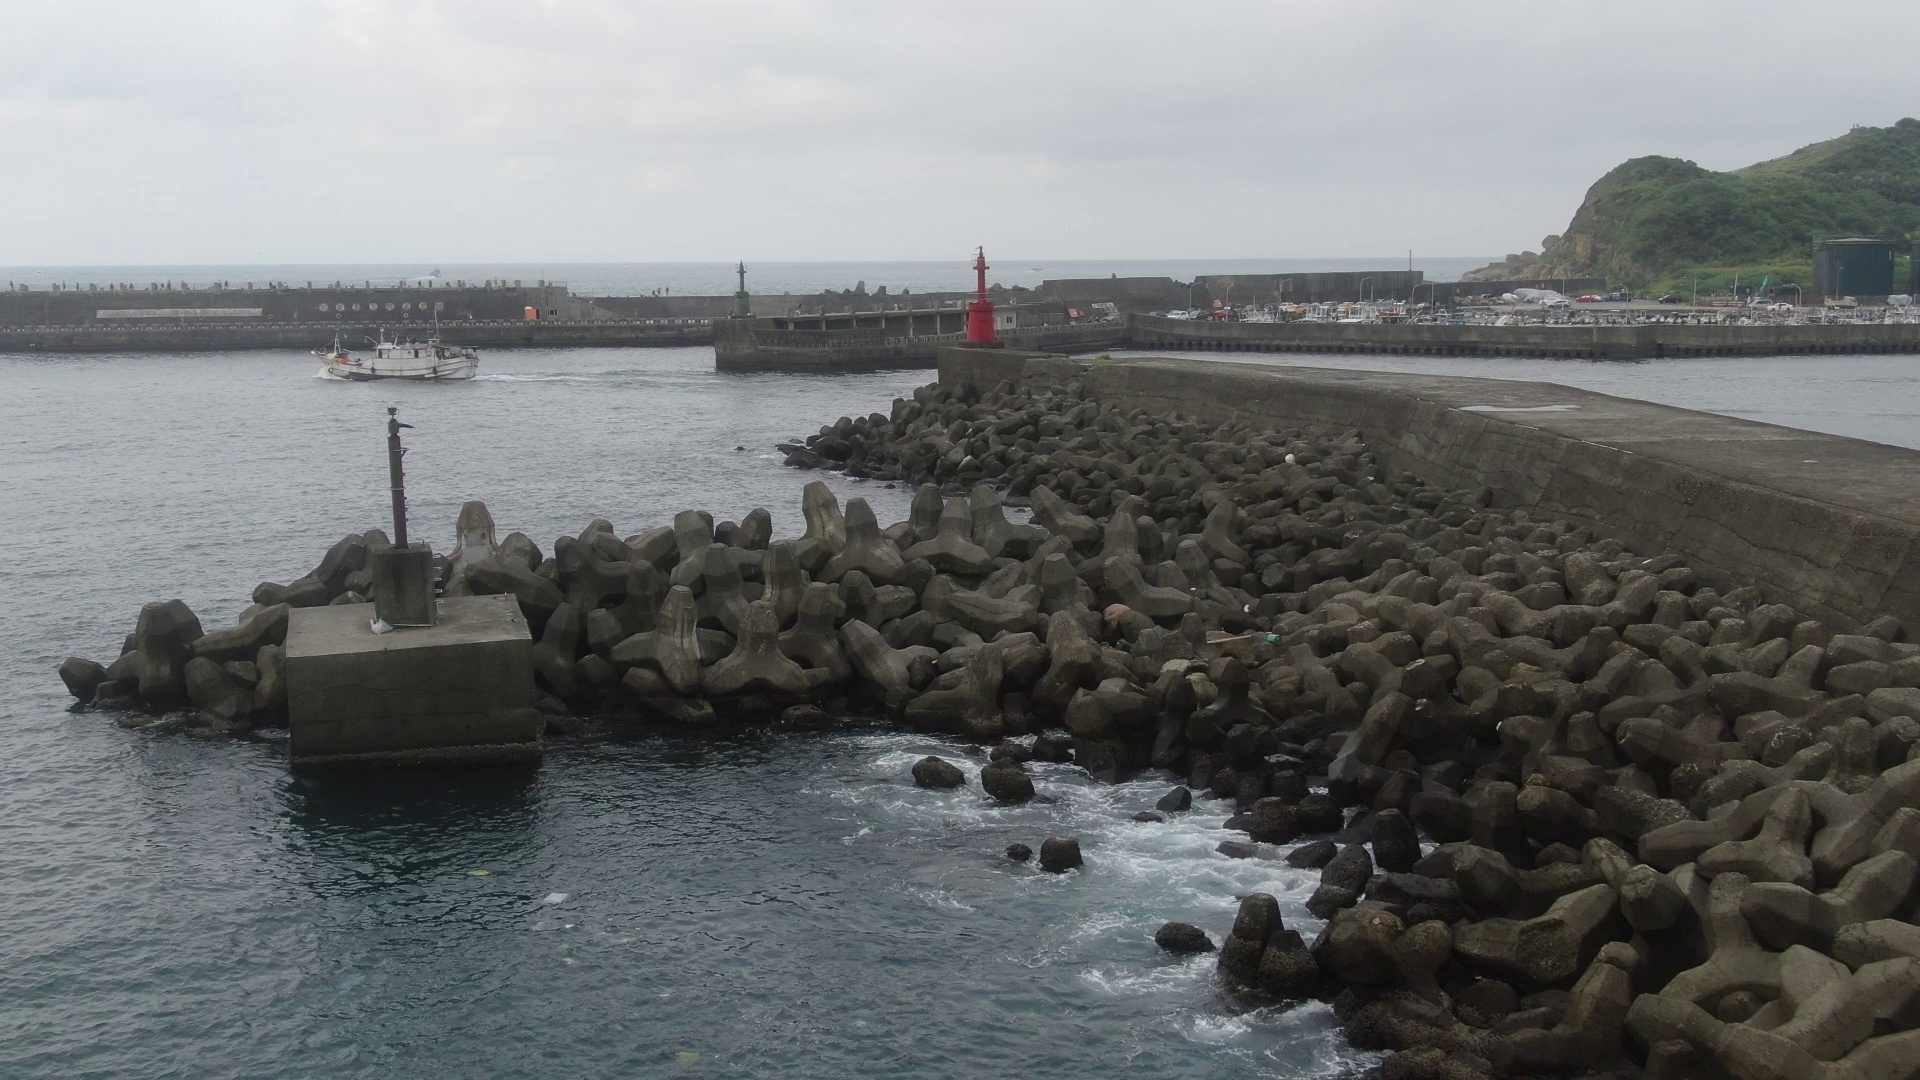garbage: (530, 887, 578, 916), (364, 611, 402, 640)
